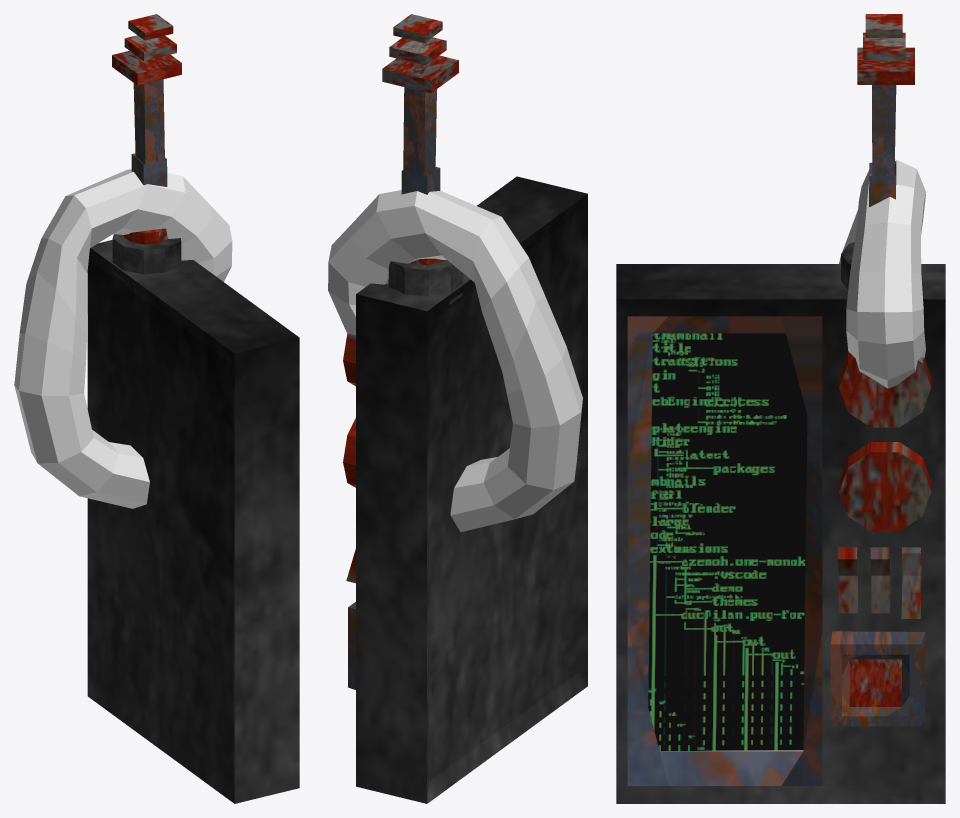
Rendered from teleporter.fbx.
3 renders of one model, left to right at view 1: azimuth 30°, elevation 25°; view 2: azimuth 150°, elevation 25°; view 3: azimuth 270°, elevation 25°, orthographic. The views are drawn at different scales.
Visible parts, largest first — view 1: phone, wires, top thing; view 2: phone, wires, top thing, buton; view 3: phone, buton, wires, top thing.
Boxes of the visible parts, box(x1,y1,x2,y2) form: phone: box(87, 240, 299, 803); wires: box(14, 169, 232, 508); top thing: box(112, 14, 181, 281); phone: box(356, 176, 587, 803); wires: box(328, 190, 582, 531); top thing: box(382, 14, 462, 304); buton: box(343, 329, 355, 689); phone: box(616, 264, 945, 803); buton: box(830, 352, 931, 726); wires: box(839, 159, 926, 388); top thing: box(841, 14, 914, 289).
Size of the model in its own units: 139 by 412 by 161.
Materials: 3 (3 with a texture image).
